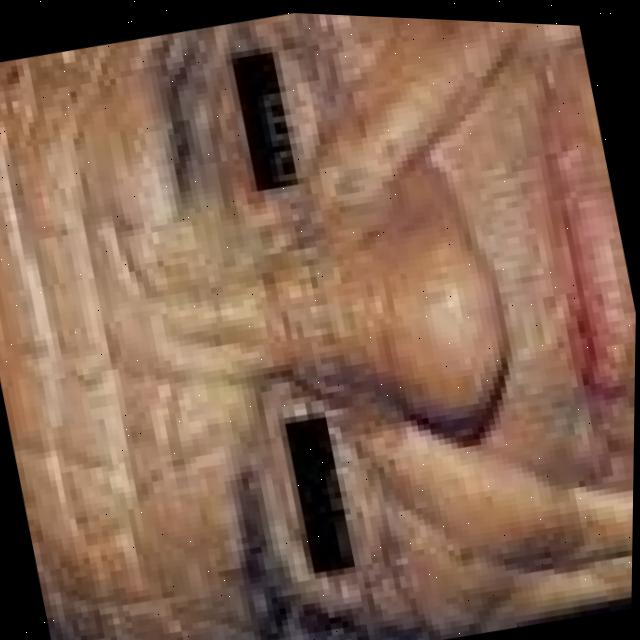Melasma: (277, 12, 375, 133)
